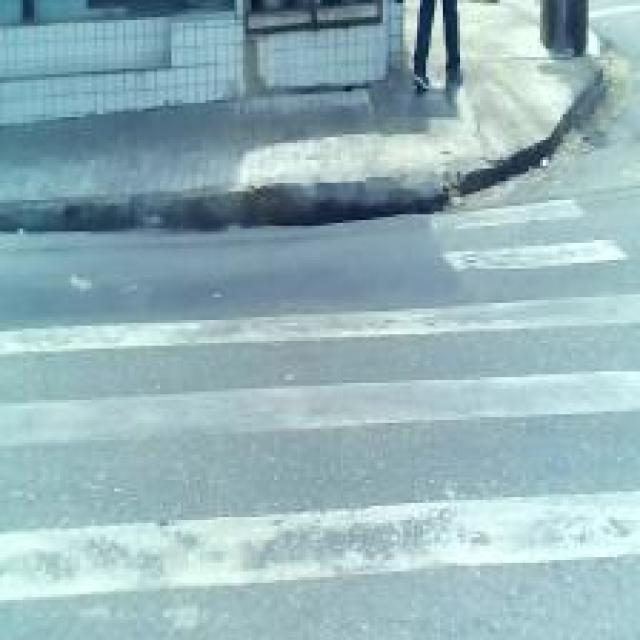zebra: (5, 308, 640, 640)
